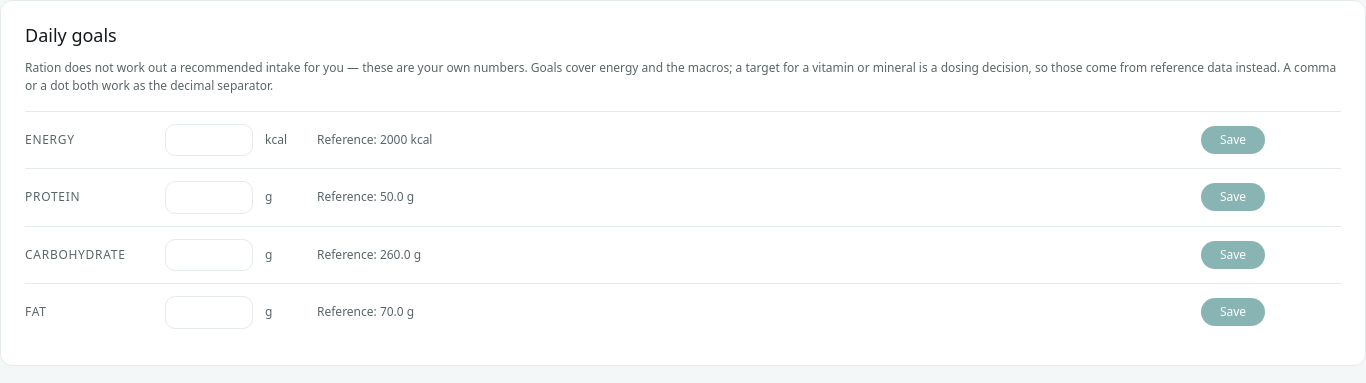
Test: GoalForm › refuses a goal of zero or below
Type "0" into the field labelled "Protein" at (209, 197), box [165,181,253,214]
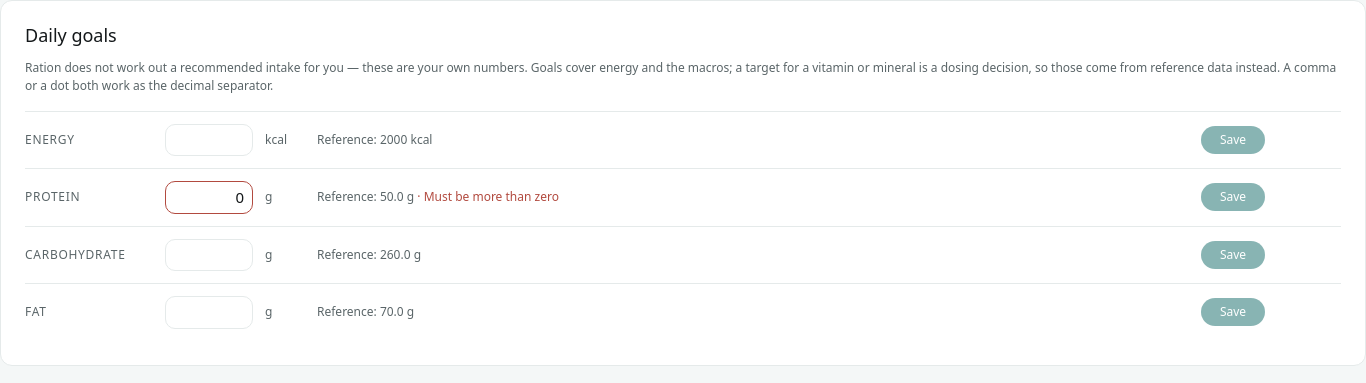
Check: the button "Save" in the row of "· Must be more than zero" is disabled, box [1201,183,1265,211]
Check: the element showing "Protein g Reference: 50.0 g · Must be more than zero Save" is shown, box [25,168,1341,226]
